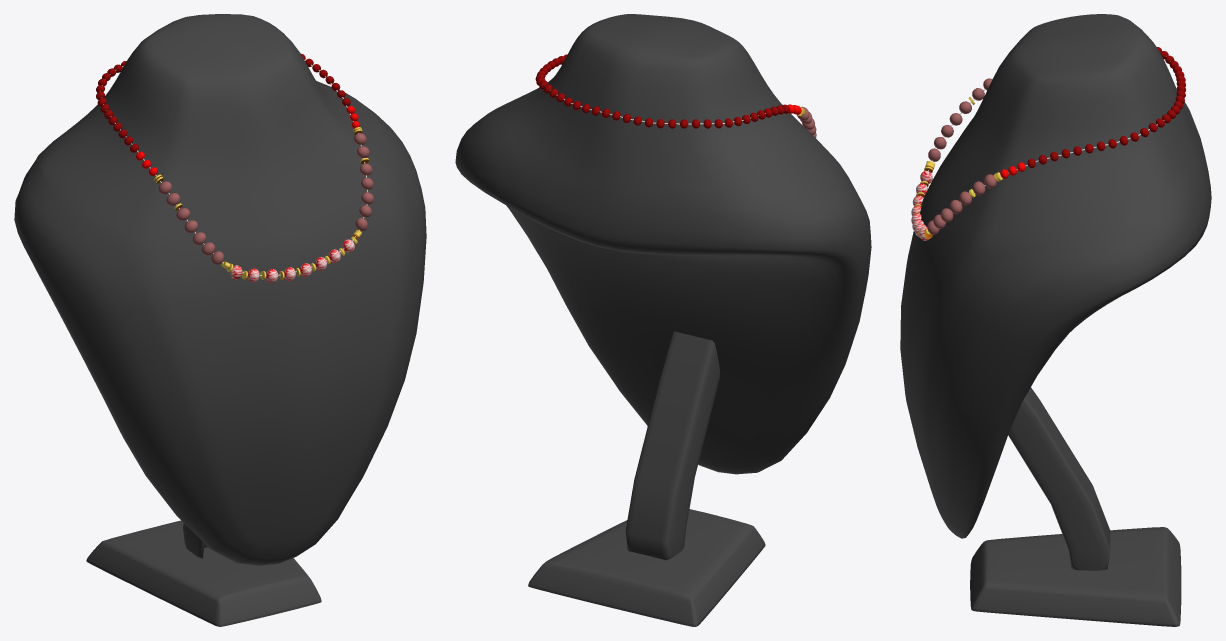
The model's file is necklace_269e532c.glb.
3 renders of one model, left to right at view 1: azimuth 30°, elevation 25°; view 2: azimuth 150°, elevation 25°; view 3: azimuth 270°, elevation 25°, orthographic.
Visible parts, largest first — view 1: polySurface2; view 2: polySurface2; view 3: polySurface2.
Part boxes in pixels (x1,y1,x2,y2): polySurface2: (14, 14, 426, 626); polySurface2: (455, 14, 871, 626); polySurface2: (900, 14, 1211, 626).
Bounding box in the file's own units: 43.15 × 59.94 × 30.72.
7 materials, 2 textured.
